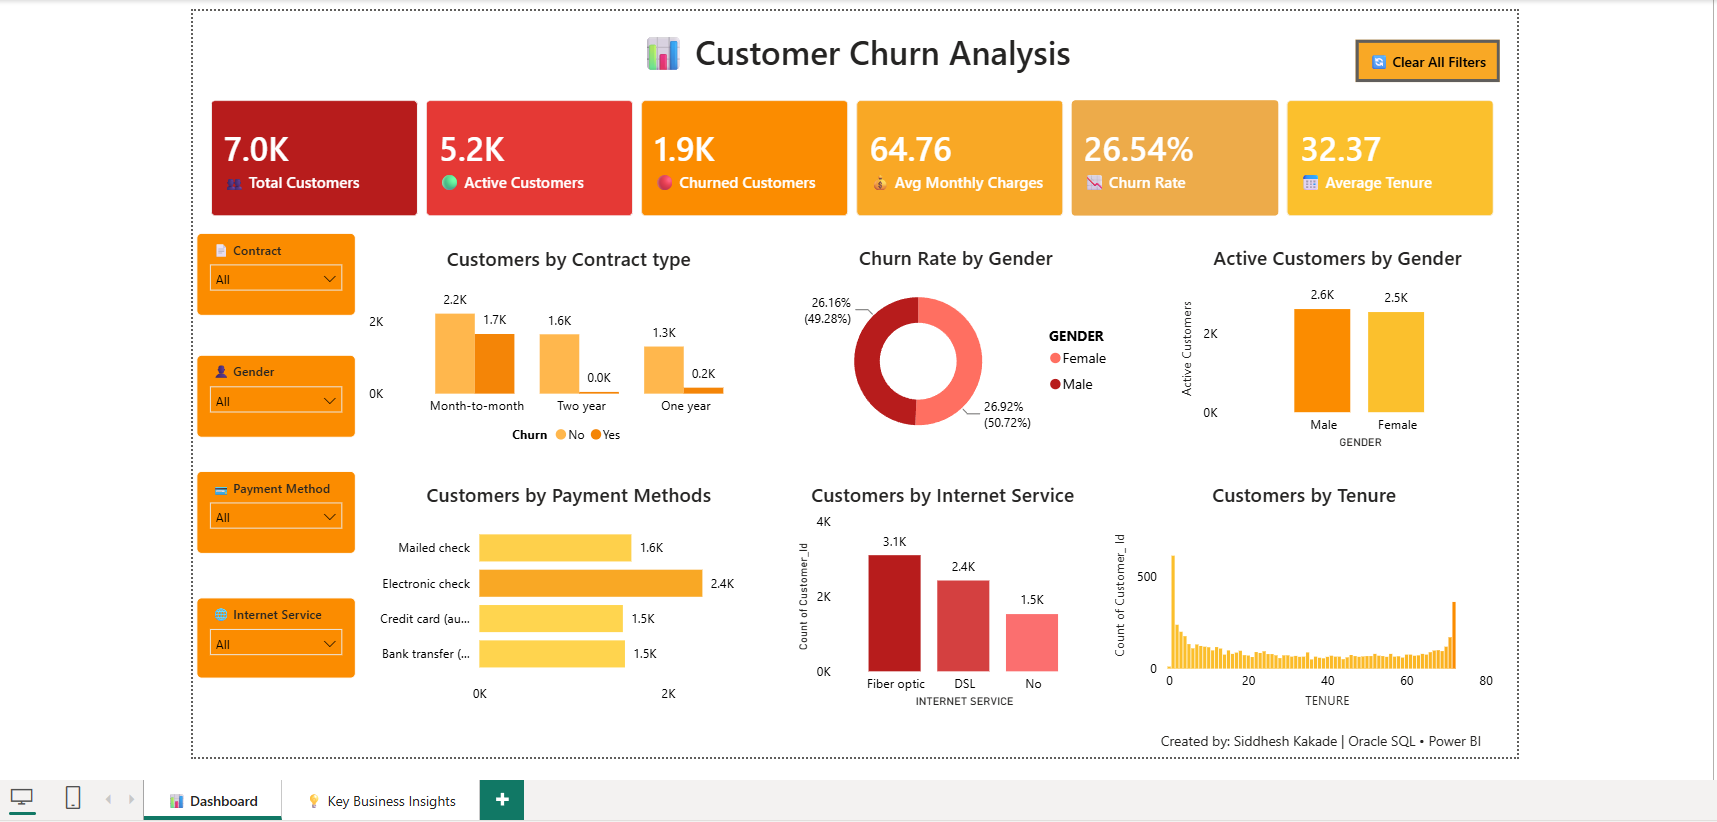

The dashboard page shown, as its layout file describes it:
{"tool":"powerbi","page":{"name":"📊 Dashboard","canvas":[1280,720],"ordinal":0},"visuals":[{"type":"cardVisual","fields":{"Data":["CUSTOMER_CHURN.Total Customers","CUSTOMER_CHURN.Active Customers","CUSTOMER_CHURN.Churned Customers","CUSTOMER_CHURN.Average Monthly Charges","CUSTOMER_CHURN.Churn Rate","CUSTOMER_CHURN.Average Tenure"]},"box":[0,68.6,1279.9,146],"z":0},{"type":"clusteredColumnChart","title":"Customers by Contract type","fields":{"Category":["CUSTOMER_CHURN.CONTRACT"],"Y":["CountNonNull(CUSTOMER_CHURN.CUSTOMERID)"],"Series":["CUSTOMER_CHURN.CHURN"]},"box":[164.3,226.6,397.4,200.8],"z":1000},{"type":"donutChart","title":"Churn Rate by Gender","fields":{"Category":["CUSTOMER_CHURN.GENDER"],"Y":["CUSTOMER_CHURN.Churn Rate"]},"box":[569.2,225.5,336.1,200.8],"z":2000},{"type":"barChart","title":"Customers by  Payment Methods","fields":{"Category":["CUSTOMER_CHURN.PAYMENTMETHOD"],"Y":["CountNonNull(CUSTOMER_CHURN.CUSTOMERID)"]},"box":[164.3,454.3,397.4,223.4],"z":3000},{"type":"columnChart","title":"Customers by Internet Service","fields":{"Category":["CUSTOMER_CHURN.INTERNETSERVICE"],"Y":["CountNonNull(CUSTOMER_CHURN.CUSTOMERID)"]},"box":[578.9,454.3,291,223.4],"z":4000},{"type":"columnChart","title":"Active Customers by Gender","fields":{"Y":["CUSTOMER_CHURN.Active Customers"],"Category":["CUSTOMER_CHURN.GENDER"]},"box":[950.4,225.5,311.4,201.9],"z":5000},{"type":"clusteredColumnChart","title":"Customers by Tenure","fields":{"Category":["CUSTOMER_CHURN.TENURE"],"Y":["CUSTOMER_CHURN.CUSTOMERID"]},"box":[886,454.3,375.9,223.4],"z":6000},{"type":"textbox","box":[388.7,11.8,502.6,56.9],"z":7000},{"type":"slicer","fields":{"Values":["CUSTOMER_CHURN.CONTRACT"]},"box":[3.3,214.6,153.8,79.6],"z":8000},{"type":"slicer","fields":{"Values":["CUSTOMER_CHURN.GENDER"]},"box":[3.3,331.9,153.8,79.6],"z":9000},{"type":"slicer","fields":{"Values":["CUSTOMER_CHURN.INTERNETSERVICE"]},"box":[3.3,566.4,153.8,78.5],"z":10000},{"type":"slicer","fields":{"Values":["CUSTOMER_CHURN.PAYMENTMETHOD"]},"box":[3.3,444.7,153.8,79.6],"z":11000},{"type":"actionButton","box":[1122.8,27.7,139.4,40.9],"z":12000},{"type":"textbox","box":[930.3,690.3,331.9,29.9],"z":13000}]}

Visuals, with their boxes on the page's 1280x720 design canvas (x1, y1, x2, y2). These are canvas units, not pixel positions in the 1717x822 screenshot, which may show the page scaled, cropped or inside an application window:
cardVisual - CUSTOMER_CHURN.Total Customers x CUSTOMER_CHURN.Active Customers: 0,69,1280,215
"Customers by Contract type" clusteredColumnChart: 164,227,562,427
"Churn Rate by Gender" donutChart: 569,226,905,426
"Customers by  Payment Methods" barChart: 164,454,562,678
"Customers by Internet Service" columnChart: 579,454,870,678
"Active Customers by Gender" columnChart: 950,226,1262,427
"Customers by Tenure" clusteredColumnChart: 886,454,1262,678
textbox: 389,12,891,69
slicer - CUSTOMER_CHURN.CONTRACT: 3,215,157,294
slicer - CUSTOMER_CHURN.GENDER: 3,332,157,412
slicer - CUSTOMER_CHURN.INTERNETSERVICE: 3,566,157,645
slicer - CUSTOMER_CHURN.PAYMENTMETHOD: 3,445,157,524
actionButton: 1123,28,1262,69
textbox: 930,690,1262,720
